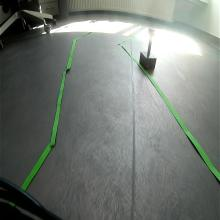red: (148, 28, 158, 38)
